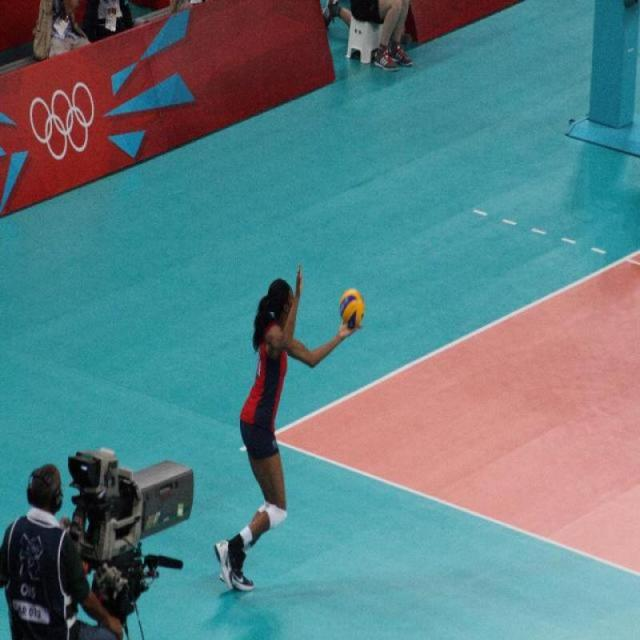volleyball: (339, 280, 365, 328)
